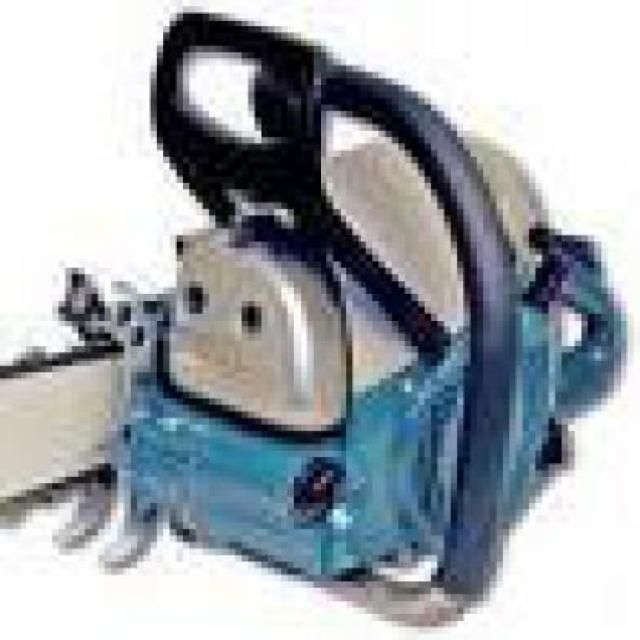Chainsaw: (3, 3, 640, 632)
